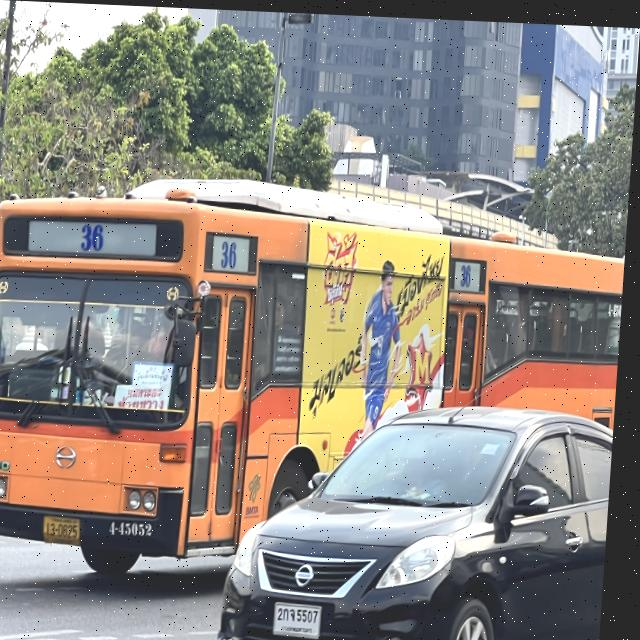BMTA-bus: (0, 170, 631, 591)
Bus-Line-Number: (78, 220, 112, 252), (221, 231, 245, 270), (461, 254, 478, 287)
Destination-Sign-Extra-Bus: (119, 381, 175, 410)
